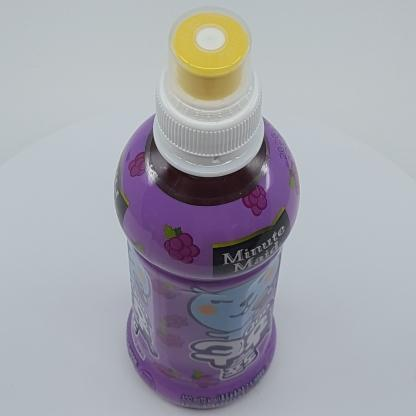------300ML: (113, 6, 300, 409)
